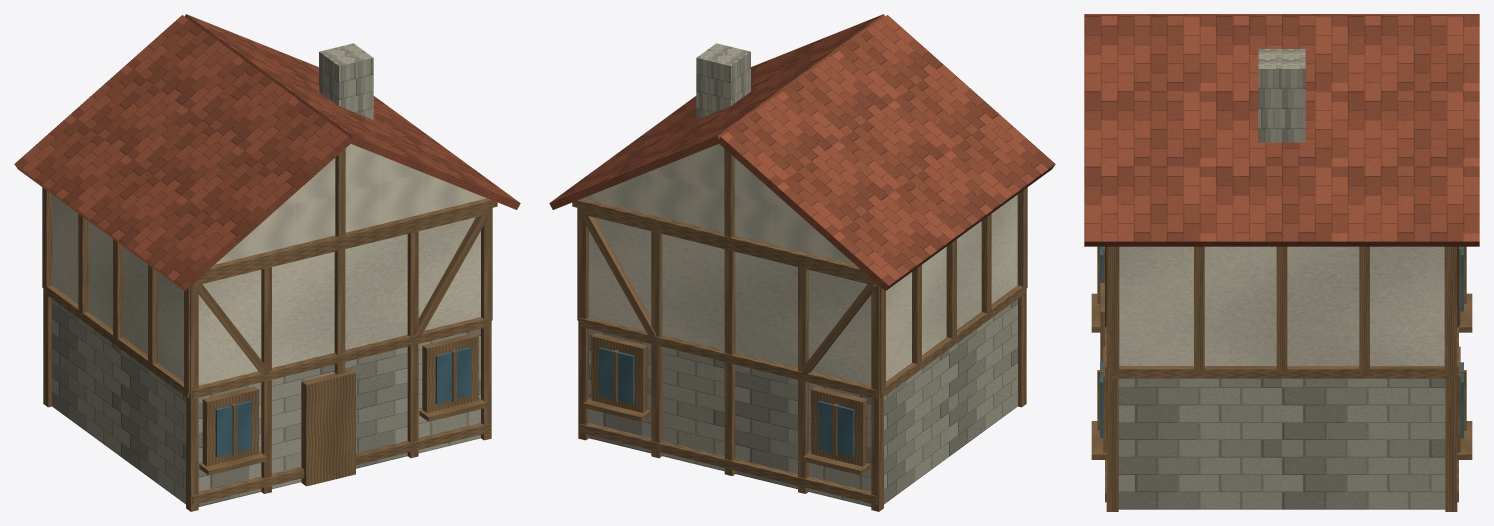
The picture shows the model from 3 angles, left to right: view 1: azimuth 30°, elevation 25°; view 2: azimuth 150°, elevation 25°; view 3: azimuth 270°, elevation 25°; orthographic projection. The views are drawn at different scales.
Visible parts, largest first — view 1: house-roof, house-wood, house-plaster, house-stone, house-glass; view 2: house-roof, house-plaster, house-wood, house-stone, house-glass; view 3: house-roof, house-stone, house-plaster, house-wood, house-glass.
Boxes of the visible parts, x1,y1,x2,y2 form: house-roof: (14,14,520,291); house-wood: (42,148,497,511); house-plaster: (52,144,486,385); house-stone: (52,43,480,506); house-glass: (215,347,471,457); house-roof: (549,14,1055,291); house-plaster: (583,144,1017,385); house-wood: (572,148,1027,511); house-stone: (589,43,1017,506); house-glass: (598,347,854,457); house-roof: (1084,14,1479,246); house-stone: (1118,49,1445,509); house-plaster: (1119,246,1444,365); house-wood: (1091,246,1472,511); house-glass: (1100,246,1463,438).
Bounding box in the file's own units: 7.88 × 7.7 × 6.7.
5 materials, 5 textured.
